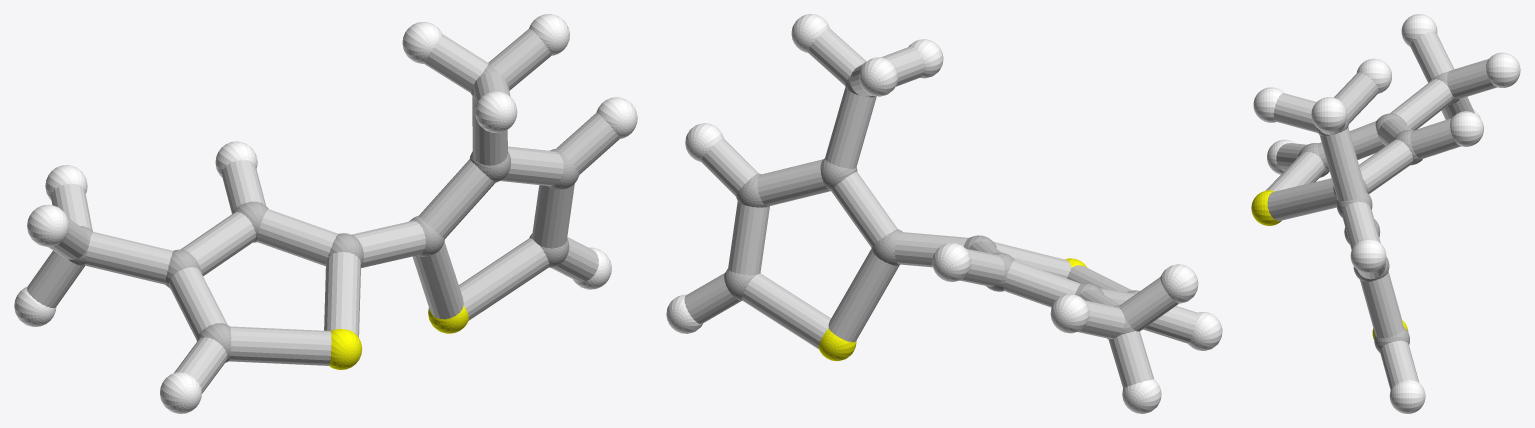
The model's file is Methylthiophene_Phi_15_Theta_260_Methylthiophene.glb.
3 views of the same model, side by side, from view 1: azimuth 30°, elevation 25°; view 2: azimuth 150°, elevation 25°; view 3: azimuth 270°, elevation 25° (orthographic). The views are drawn at different scales.
Parts seen in each view (by area): view 1: grp7965, grp3621, grp1, grp7241; view 2: grp7965, grp3621, grp1, grp7241; view 3: grp7965, grp3621, grp1, grp7241.
Boxes of the visible parts, bbox=[...] form: grp7965: bbox=[27, 29, 619, 393]; grp3621: bbox=[14, 14, 637, 413]; grp1: bbox=[68, 64, 579, 362]; grp7241: bbox=[329, 306, 468, 369]; grp7965: bbox=[684, 28, 1198, 388]; grp3621: bbox=[666, 14, 1222, 413]; grp1: bbox=[724, 62, 1139, 339]; grp7241: bbox=[818, 258, 1087, 361]; grp7965: bbox=[1265, 32, 1497, 390]; grp3621: bbox=[1253, 14, 1520, 413]; grp1: bbox=[1298, 71, 1459, 352]; grp7241: bbox=[1251, 190, 1408, 339].
Bounding box in the file's own units: 9.42 × 5.12 × 4.5.
